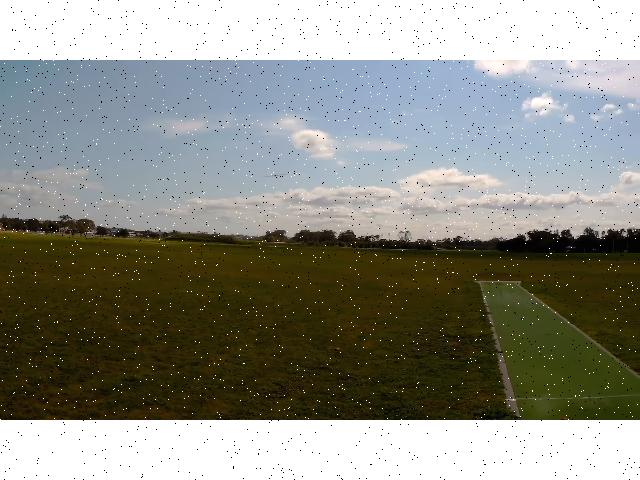Anti-Drone: (262, 173, 288, 177)
